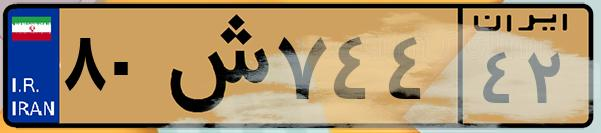0: (110, 28, 158, 98)
2: (525, 38, 570, 115)
4: (385, 28, 445, 110), (330, 28, 385, 110), (475, 38, 525, 113)
7: (270, 28, 330, 110)
8: (57, 26, 110, 100)
ش: (158, 12, 270, 120)
